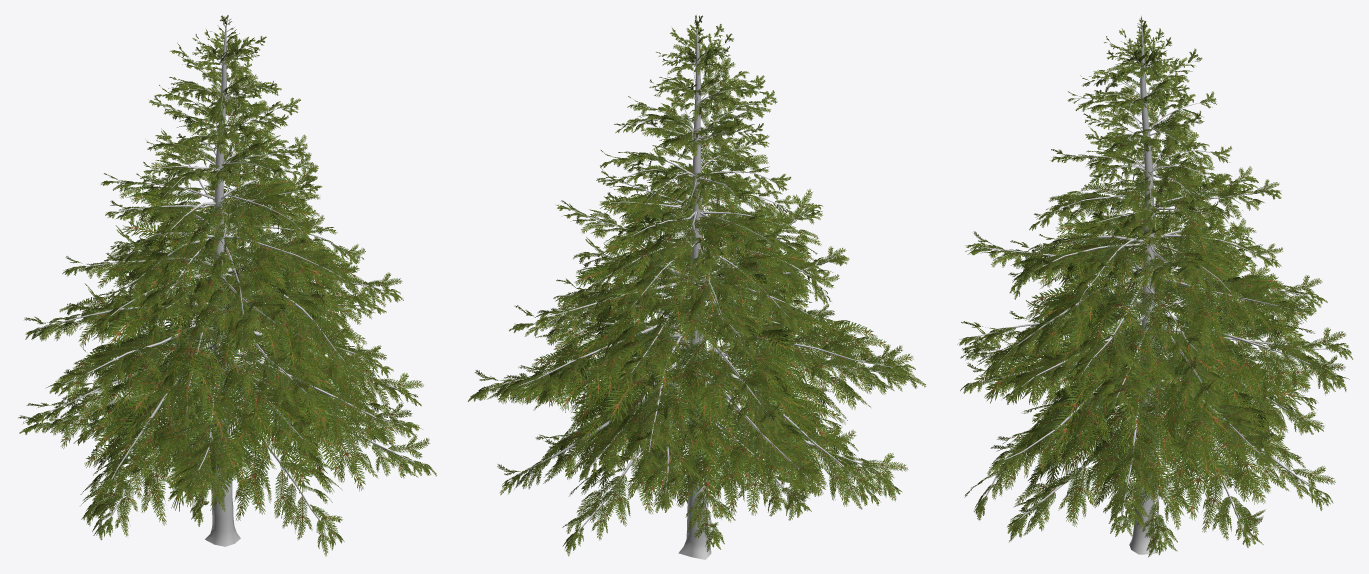
3 renders of one model, left to right at view 1: azimuth 30°, elevation 25°; view 2: azimuth 150°, elevation 25°; view 3: azimuth 270°, elevation 25°, orthographic.
Parts seen in each view (by area): view 1: Pine_Texture_2, pine_bark_diff_4k; view 2: Pine_Texture_2, pine_bark_diff_4k; view 3: Pine_Texture_2, pine_bark_diff_4k.
Boxes of the visible parts, bbox=[...] form: Pine_Texture_2: bbox=[18, 15, 436, 556]; pine_bark_diff_4k: bbox=[37, 18, 414, 546]; Pine_Texture_2: bbox=[468, 15, 926, 556]; pine_bark_diff_4k: bbox=[489, 18, 898, 559]; Pine_Texture_2: bbox=[957, 16, 1353, 557]; pine_bark_diff_4k: bbox=[976, 22, 1331, 554].
Size of the model in its own units: 15.77 by 20.87 by 14.18.
